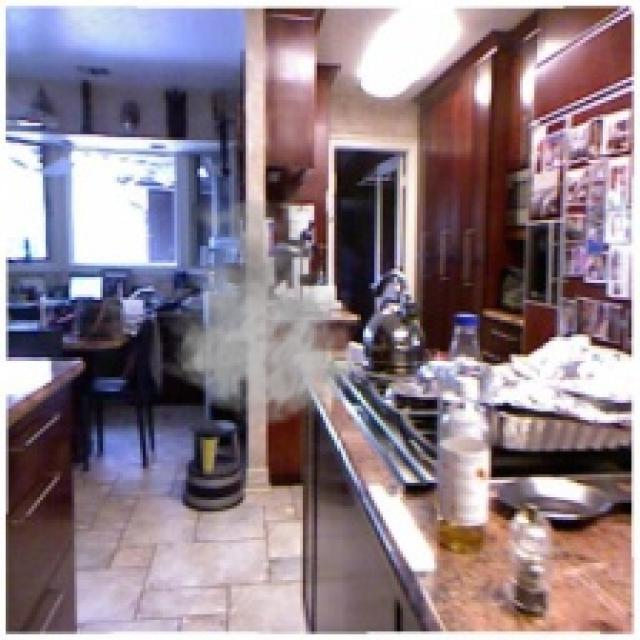Smoke: (157, 180, 366, 429)
